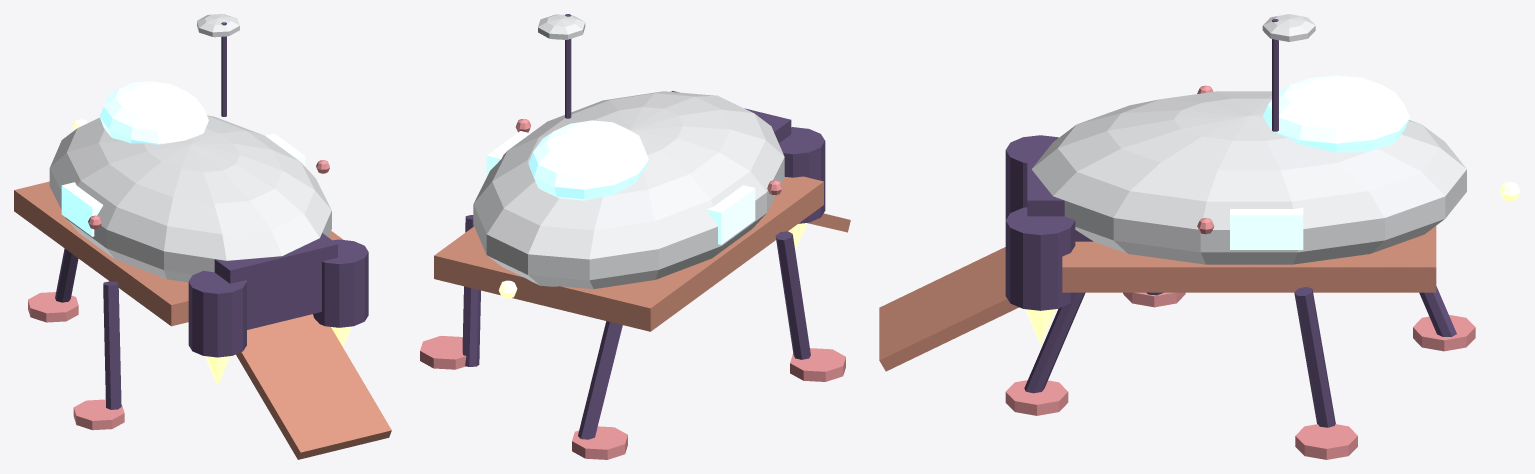
Rendered from ship.glb.
The picture shows the model from 3 angles, left to right: view 1: azimuth 30°, elevation 25°; view 2: azimuth 150°, elevation 25°; view 3: azimuth 270°, elevation 25°; orthographic projection. The views are drawn at different scales.
Parts seen in each view (by area): view 1: hull, ramp, stripe, cargo_bay, cabin, engine_l, engine_r, leg_2, window_l, foot_2, foot_1, dish (+3 smaller); view 2: hull, stripe, cabin, leg_2, engine_l, leg_1, window_l, leg_0, foot_2, foot_1, foot_0, dish (+4 smaller); view 3: hull, stripe, ramp, cabin, engine_r, window_r, leg_0, leg_3, cargo_bay, foot_0, engine_l, foot_3 (+5 smaller).
Boxes of the visible parts, x1=… form: hull: x1=49, y1=115, x2=331, y2=282; ramp: x1=236, y1=314, x2=391, y2=459; stripe: x1=14, y1=181, x2=343, y2=326; cargo_bay: x1=214, y1=233, x2=337, y2=329; cabin: x1=99, y1=81, x2=208, y2=144; engine_l: x1=188, y1=270, x2=246, y2=357; engine_r: x1=313, y1=239, x2=368, y2=327; leg_2: x1=103, y1=281, x2=121, y2=409; window_l: x1=61, y1=182, x2=103, y2=236; foot_2: x1=73, y1=399, x2=124, y2=430; foot_1: x1=28, y1=292, x2=78, y2=322; dish: x1=197, y1=14, x2=239, y2=37; hull: x1=473, y1=91, x2=784, y2=289; stripe: x1=434, y1=176, x2=823, y2=331; cabin: x1=528, y1=120, x2=648, y2=200; leg_2: x1=775, y1=231, x2=810, y2=359; engine_l: x1=779, y1=127, x2=825, y2=223; leg_1: x1=578, y1=321, x2=622, y2=439; window_l: x1=707, y1=185, x2=755, y2=244; leg_0: x1=462, y1=215, x2=480, y2=366; foot_2: x1=790, y1=348, x2=845, y2=381; foot_1: x1=572, y1=426, x2=627, y2=459; foot_0: x1=420, y1=336, x2=466, y2=369; dish: x1=538, y1=14, x2=585, y2=39; hull: x1=1031, y1=91, x2=1466, y2=264; stripe: x1=1062, y1=226, x2=1436, y2=292; ramp: x1=879, y1=247, x2=1018, y2=371; cabin: x1=1263, y1=75, x2=1409, y2=152; engine_r: x1=1005, y1=207, x2=1075, y2=310; window_r: x1=1230, y1=207, x2=1303, y2=249; leg_0: x1=1294, y1=287, x2=1335, y2=427; leg_3: x1=1024, y1=292, x2=1085, y2=393; cargo_bay: x1=1027, y1=138, x2=1093, y2=241; foot_0: x1=1295, y1=424, x2=1357, y2=459; engine_l: x1=1005, y1=135, x2=1058, y2=219; foot_3: x1=1005, y1=380, x2=1068, y2=415.
Size of the model in its own units: 2.56 by 2.52 by 3.87.
